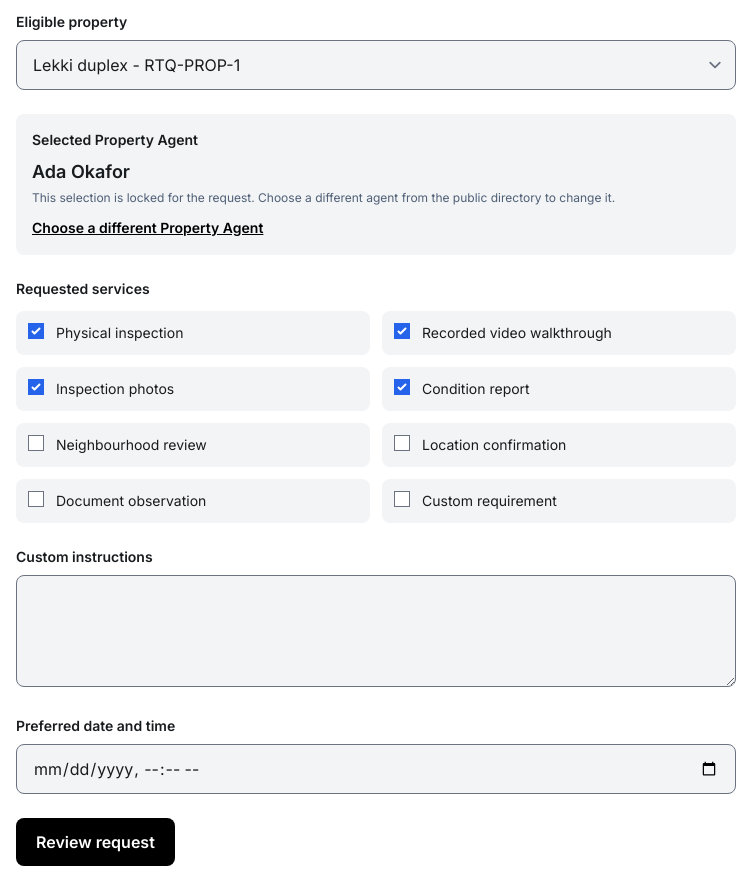
Create Property Agent inspection request › blocks duplicate requests for the same property and Property Agent
The image size is (753, 885).
(page scrolled)
Step 1. Click the button "Review request" → (95, 842), box [16,818,175,866]
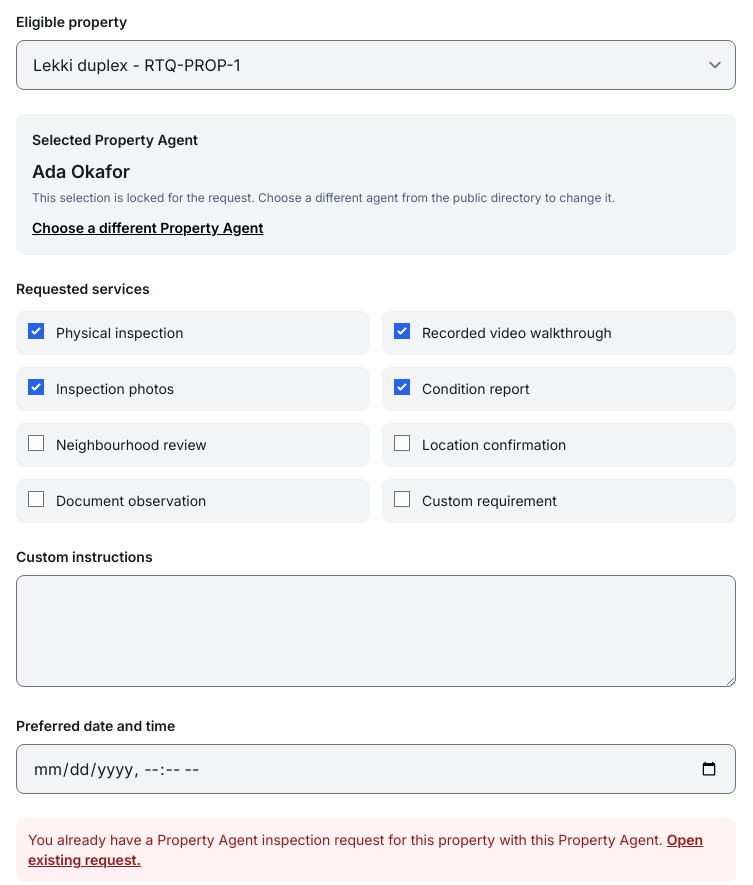
Expected: the heading "Review request" is not shown
Now the message shows "You already have a Property Agent inspection request for this property with this Property Agent.", box [28,831,663,848]
